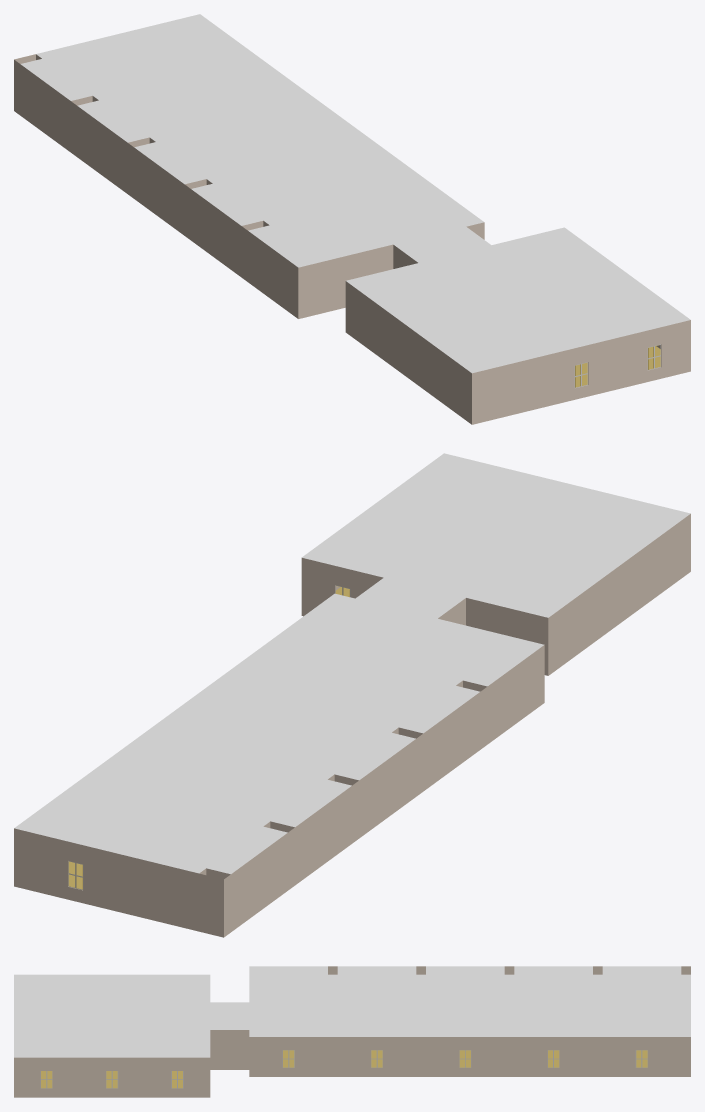
The model's file is room_ext.fbx.
The picture shows the model from 3 angles, top to bottom: view 1: azimuth 30°, elevation 25°; view 2: azimuth 150°, elevation 25°; view 3: azimuth 270°, elevation 25°; orthographic projection. The views are drawn at different scales.
Visible parts, largest first — view 1: Room.001, Room; view 2: Room.001, Room; view 3: Room.001, Room.
Boxes of the visible parts, bbox=[...] form: Room.001: bbox=[14, 14, 484, 318]; Room: bbox=[345, 227, 690, 424]; Room.001: bbox=[14, 593, 544, 937]; Room: bbox=[301, 453, 690, 675]; Room.001: bbox=[249, 966, 690, 1076]; Room: bbox=[14, 974, 249, 1097].
Bounding box in the file's own units: 2200 × 450 × 6900.
